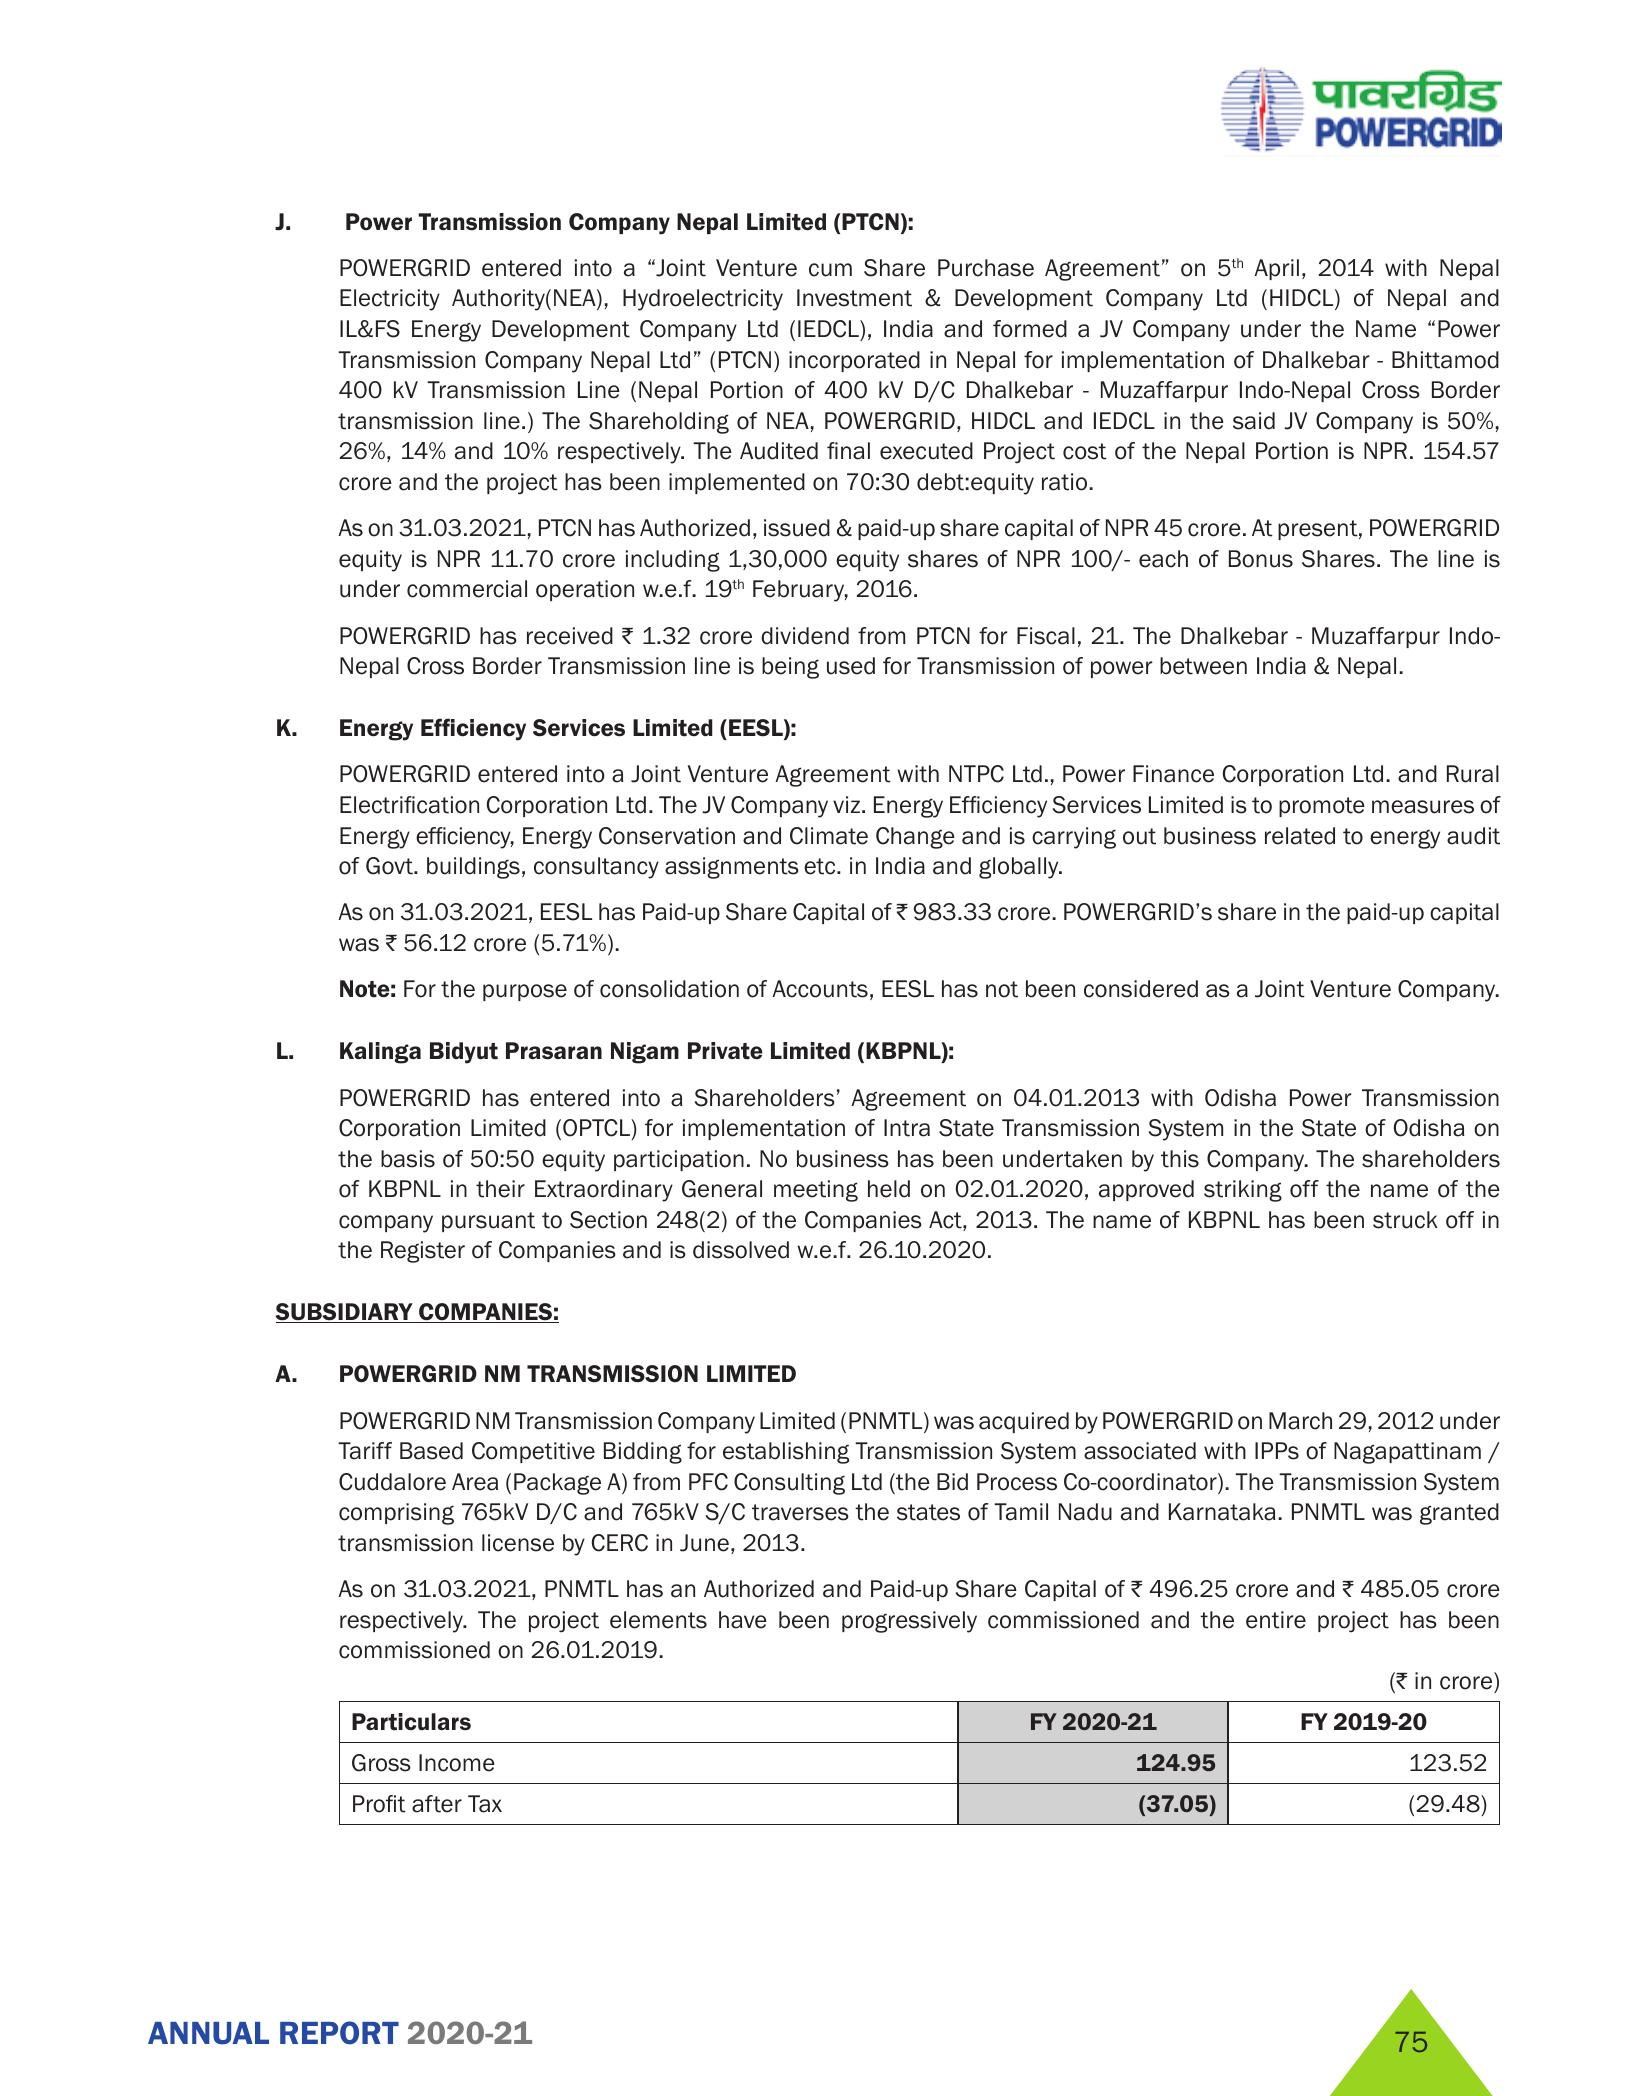Footer: (0, 1974, 1650, 2096)
Header: (0, 0, 1650, 168)
Table: (286, 1667, 1516, 1860)
